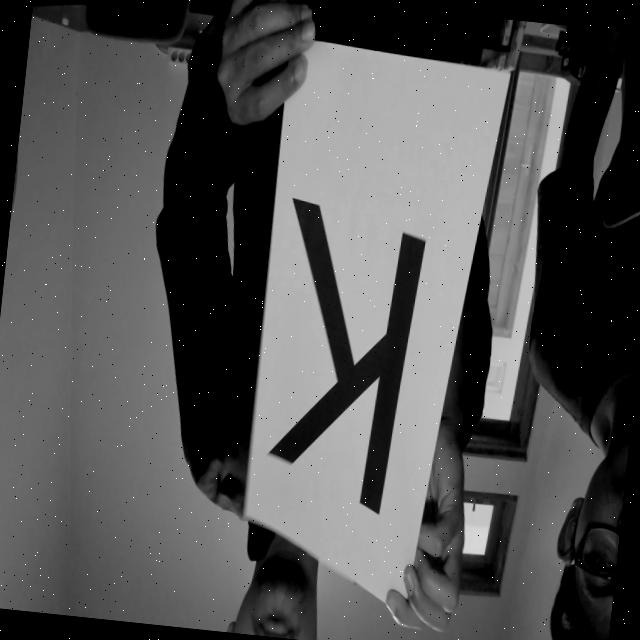k: (253, 175, 442, 529)
